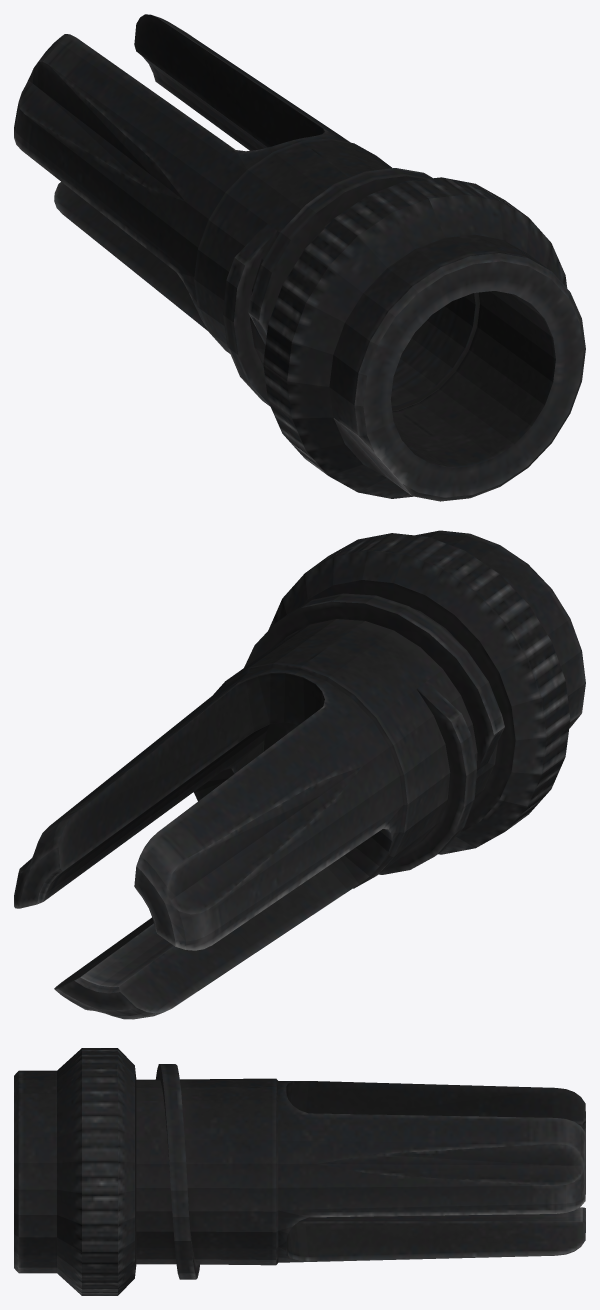
The picture shows the model from 3 angles, top to bottom: view 1: azimuth 30°, elevation 25°; view 2: azimuth 150°, elevation 25°; view 3: azimuth 270°, elevation 25°; orthographic projection. The views are drawn at different scales.
Parts seen in each view (by area): view 1: TW_5a34fd2bc4a282329a73b4c5_PZ_Import; view 2: TW_5a34fd2bc4a282329a73b4c5_PZ_Import; view 3: TW_5a34fd2bc4a282329a73b4c5_PZ_Import.
Boxes of the visible parts, x1,y1,x2,y2 form: TW_5a34fd2bc4a282329a73b4c5_PZ_Import: [14, 14, 585, 501]; TW_5a34fd2bc4a282329a73b4c5_PZ_Import: [14, 530, 585, 1019]; TW_5a34fd2bc4a282329a73b4c5_PZ_Import: [14, 1048, 585, 1295].
Size of the model in its own units: 0.0173 by 0.0397 by 0.0173.
1 material, 1 textured.
